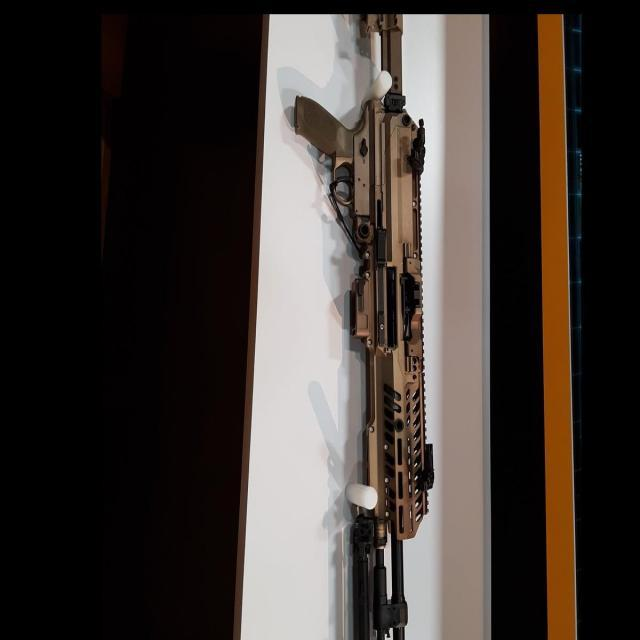weapon: (293, 13, 437, 640)
